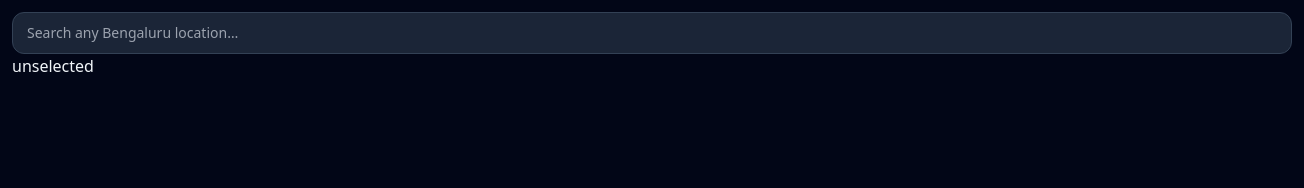
Test case: LocationSearch › supports keyboard selection, clears coordinates on edit, and clears selection
In the dropdown: (652, 33) [12,12,1292,54], type "Kodi"
Wait 300 ms
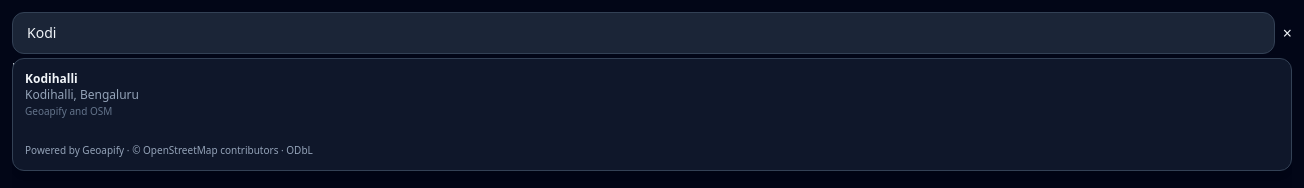
Press ArrowDown in the dropdown, box [12,12,1275,54]
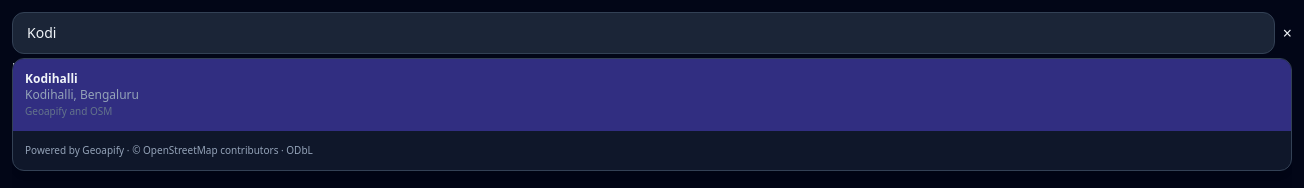
Press Enter in the dropdown, box [12,12,1275,54]
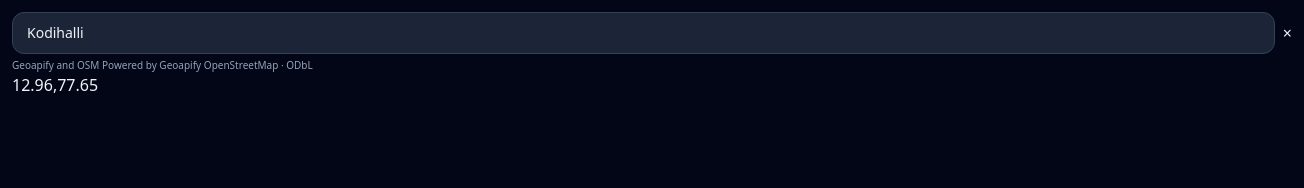
Expected: the text "12.96,77.65" is shown, [12,74,98,96]
Replace the text in the dropdown with "Other": (643, 33) [12,12,1275,54]
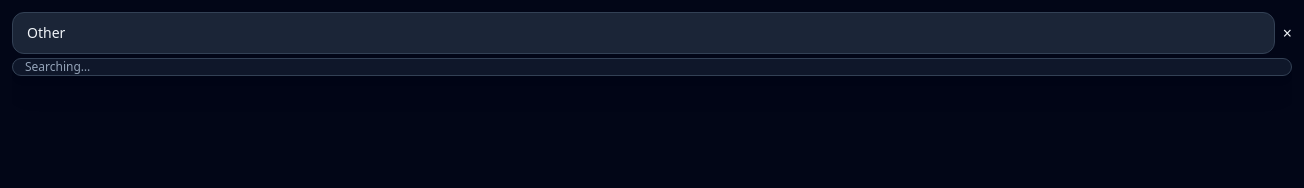
Expected: the text "unselected" is shown, [12,55,94,77]
Click the button named "Clear Origin": (1287, 33) [1283,12,1292,54]
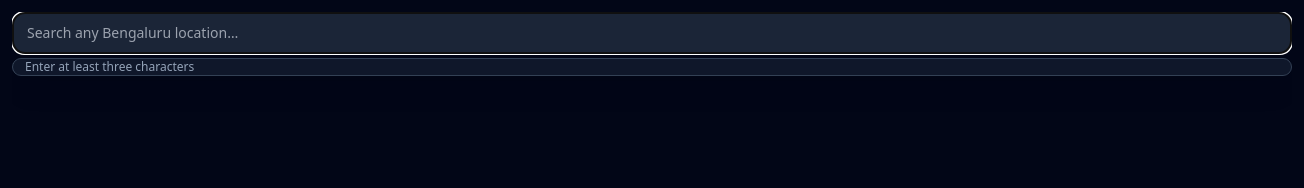
Expected: the dropdown is empty, [12,12,1292,54]
